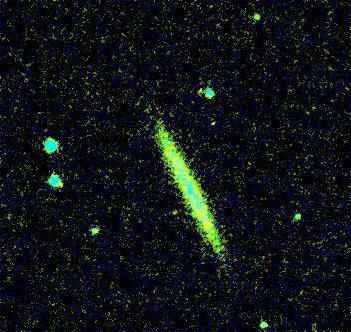star: (241, 2, 271, 32)
